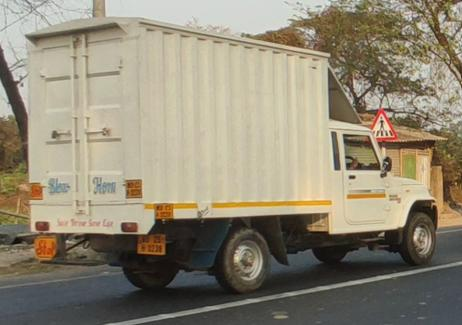Truck: (25, 19, 440, 297)
